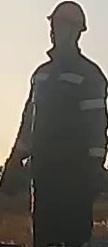gloves: (0, 142, 26, 198), (83, 152, 107, 193)
helmet: (45, 0, 88, 35)
vest: (26, 58, 105, 193)
